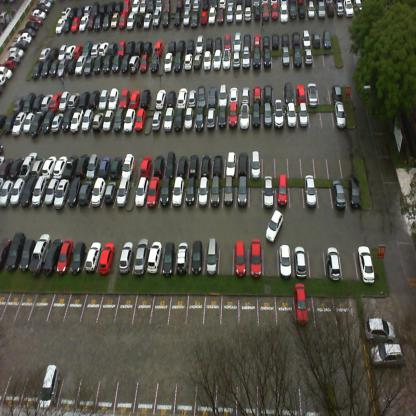car: (38, 364, 60, 410), (27, 232, 52, 272), (364, 315, 396, 344), (4, 232, 24, 274), (370, 341, 403, 366), (354, 240, 374, 277), (292, 281, 308, 326), (145, 240, 165, 275), (324, 242, 342, 280), (41, 239, 60, 273), (68, 240, 87, 274), (76, 176, 94, 210), (144, 177, 162, 211), (293, 243, 311, 277), (53, 241, 72, 273), (82, 240, 100, 273), (265, 210, 283, 243), (88, 174, 105, 208), (278, 244, 295, 278), (160, 241, 177, 274), (174, 243, 191, 276), (20, 174, 37, 207), (19, 236, 35, 271), (203, 241, 218, 278), (170, 176, 186, 210), (188, 242, 204, 276), (344, 176, 362, 206), (234, 241, 249, 277), (65, 176, 81, 209), (113, 177, 129, 210), (156, 178, 172, 211), (132, 240, 148, 273), (100, 178, 116, 210), (53, 178, 69, 210), (96, 244, 113, 274), (248, 240, 263, 274), (118, 242, 134, 272), (133, 177, 146, 212), (73, 154, 91, 179), (84, 153, 101, 179), (330, 179, 345, 208), (197, 179, 211, 210), (32, 175, 46, 206), (122, 106, 137, 134), (235, 179, 249, 209), (262, 178, 276, 208), (276, 179, 290, 209), (43, 178, 58, 206), (10, 178, 24, 208), (29, 109, 44, 137), (90, 106, 106, 132), (96, 154, 112, 180), (209, 180, 223, 209), (304, 178, 317, 209), (122, 155, 138, 180), (101, 107, 115, 135), (112, 107, 126, 135), (11, 110, 25, 138), (332, 101, 347, 127), (186, 152, 201, 178), (21, 150, 36, 176), (109, 155, 125, 179), (248, 150, 262, 177), (306, 78, 319, 107), (184, 179, 196, 210), (133, 108, 147, 134), (149, 154, 163, 180), (138, 155, 153, 179), (150, 106, 163, 133), (164, 152, 178, 177), (199, 152, 213, 177), (210, 152, 224, 177), (53, 154, 67, 179), (224, 179, 236, 208), (282, 78, 295, 104), (61, 106, 74, 132), (174, 153, 188, 177), (224, 150, 236, 178), (40, 110, 53, 135), (0, 179, 12, 206), (70, 108, 82, 135), (194, 107, 206, 133), (81, 108, 93, 134), (3, 110, 16, 134), (10, 154, 24, 176), (42, 154, 56, 176), (63, 155, 77, 177), (296, 78, 307, 106), (162, 107, 174, 132), (238, 105, 250, 130), (237, 152, 249, 177), (0, 237, 10, 267), (176, 83, 188, 108), (206, 84, 218, 108), (22, 112, 35, 134), (100, 53, 113, 75), (262, 105, 274, 128), (274, 105, 286, 128), (298, 105, 310, 128), (88, 88, 100, 111), (184, 106, 194, 133), (31, 93, 45, 112), (216, 107, 227, 131), (1, 154, 13, 176), (118, 87, 130, 109), (50, 90, 62, 112), (110, 52, 121, 76), (174, 108, 184, 134), (31, 155, 44, 175), (252, 81, 262, 107), (292, 44, 302, 70), (52, 110, 63, 133), (218, 79, 227, 107), (58, 90, 70, 111), (252, 105, 262, 130), (196, 83, 206, 108), (155, 85, 165, 110), (262, 46, 272, 71), (40, 92, 53, 111), (22, 93, 35, 112), (205, 108, 216, 130), (228, 106, 239, 128), (140, 87, 151, 109), (97, 89, 108, 111), (31, 59, 42, 81), (78, 90, 90, 110), (172, 50, 182, 74), (221, 47, 231, 71), (281, 45, 290, 71), (286, 105, 297, 126), (74, 55, 85, 76), (263, 81, 273, 104), (130, 86, 140, 109), (57, 56, 67, 79), (212, 48, 222, 71), (252, 45, 262, 68), (240, 83, 250, 105), (228, 83, 239, 103), (109, 87, 119, 109), (40, 59, 51, 79), (141, 10, 151, 32), (188, 84, 197, 108), (68, 90, 80, 108), (302, 29, 312, 50), (232, 31, 242, 52), (96, 40, 110, 55), (21, 25, 36, 39), (331, 80, 342, 99), (39, 46, 51, 63), (48, 58, 58, 78), (130, 54, 140, 74), (138, 53, 148, 73), (100, 12, 110, 32), (190, 10, 200, 30), (242, 46, 251, 68), (323, 30, 332, 52), (81, 40, 92, 58), (12, 96, 24, 112), (140, 40, 152, 56), (66, 58, 76, 77), (150, 53, 160, 72), (304, 47, 314, 66), (312, 31, 322, 50), (54, 17, 64, 36), (70, 14, 80, 33), (93, 10, 103, 29), (117, 10, 127, 29), (36, 2, 50, 15), (166, 89, 176, 107), (232, 49, 241, 69), (117, 38, 127, 56), (78, 14, 88, 32), (126, 10, 135, 30), (151, 8, 160, 28), (164, 51, 172, 73), (73, 44, 84, 60), (65, 43, 76, 59), (84, 55, 93, 74), (193, 51, 202, 70), (202, 51, 211, 70), (242, 31, 251, 50), (135, 10, 144, 29), (225, 5, 234, 24), (271, 2, 280, 21), (58, 43, 68, 60), (94, 53, 102, 74), (121, 53, 129, 74), (86, 12, 94, 33), (208, 5, 216, 26), (133, 40, 144, 55), (110, 12, 119, 30), (243, 6, 252, 24), (183, 55, 193, 71), (291, 30, 301, 46), (124, 40, 134, 56), (9, 48, 25, 58), (27, 15, 43, 25), (354, 0, 364, 16), (48, 46, 59, 60), (1, 66, 12, 80), (18, 32, 32, 43), (224, 31, 232, 50), (161, 10, 169, 29), (298, 4, 306, 23), (318, 1, 326, 20), (91, 41, 101, 56), (235, 3, 242, 24), (262, 33, 270, 51), (196, 33, 204, 51), (187, 36, 195, 54), (176, 39, 185, 55), (63, 18, 72, 34), (173, 10, 181, 28), (182, 8, 190, 26), (216, 6, 224, 24), (326, 2, 334, 20), (26, 19, 39, 30), (33, 8, 46, 19), (154, 38, 164, 52), (146, 0, 156, 14), (264, 1, 270, 24), (200, 10, 208, 27), (346, 1, 355, 16), (272, 32, 279, 51), (8, 53, 21, 63), (204, 37, 213, 51), (4, 60, 18, 69), (14, 40, 28, 49), (281, 3, 288, 21), (308, 2, 315, 20), (39, 0, 53, 9), (107, 0, 116, 14), (281, 33, 289, 48), (214, 36, 222, 51), (166, 40, 176, 52), (107, 42, 117, 54), (122, 0, 131, 13), (253, 5, 261, 19), (290, 4, 297, 20), (337, 1, 344, 17), (69, 4, 77, 18), (115, 0, 123, 14), (60, 5, 70, 16), (82, 2, 90, 15), (254, 33, 261, 47), (132, 0, 140, 12), (139, 0, 147, 12), (164, 0, 171, 13), (201, 0, 209, 11), (76, 4, 83, 16), (0, 72, 6, 86), (176, 0, 183, 12), (192, 0, 199, 12), (155, 0, 163, 10), (100, 2, 107, 13), (184, 0, 192, 9), (210, 0, 218, 9), (219, 0, 226, 10), (93, 1, 97, 15)
